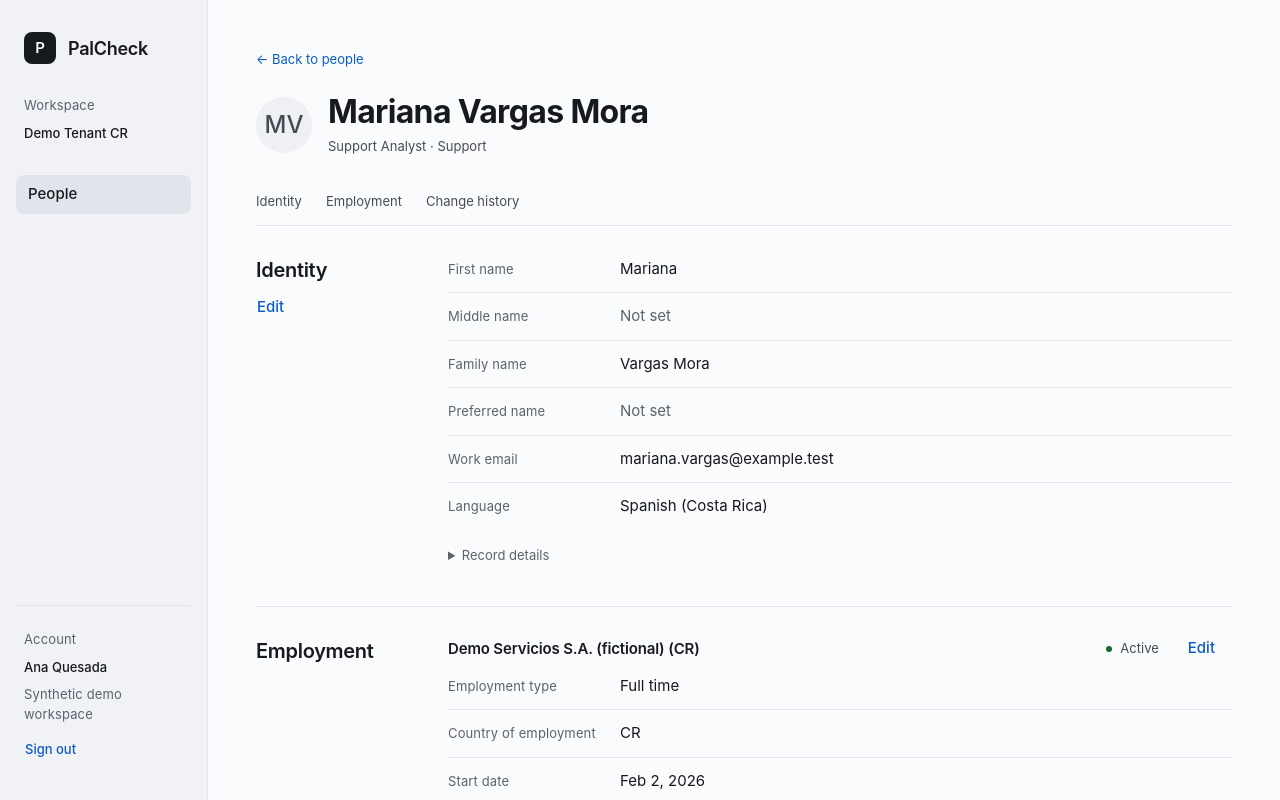
Test case: Person detail › editing identity › sends the revision the person saw, their changes and an idempotency key
The width and height of the screenshot is (1280, 800).
Click the button with aria-label "Edit identity": (271, 308) [240,290,301,326]
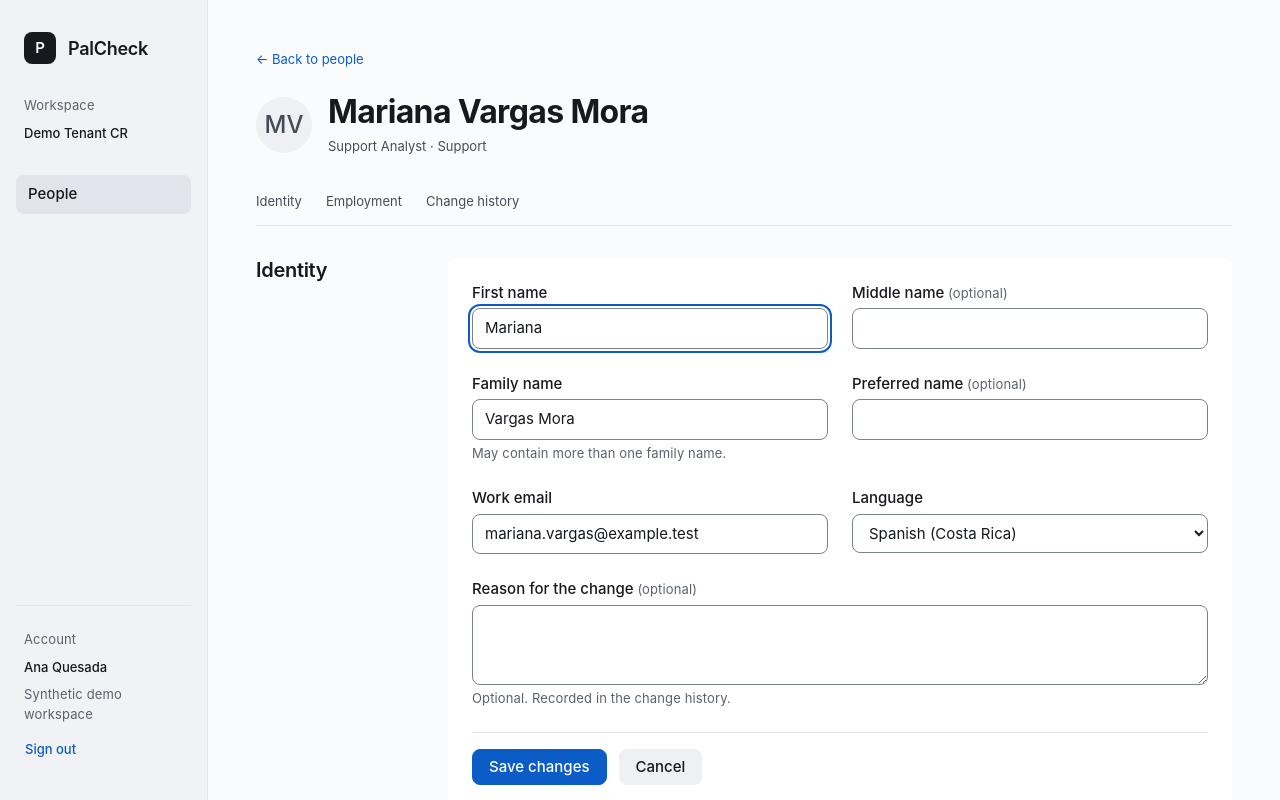
Replace the text in the field labelled "Work email" with "mariana.v@example.test": (650, 534) [472,514,828,554]
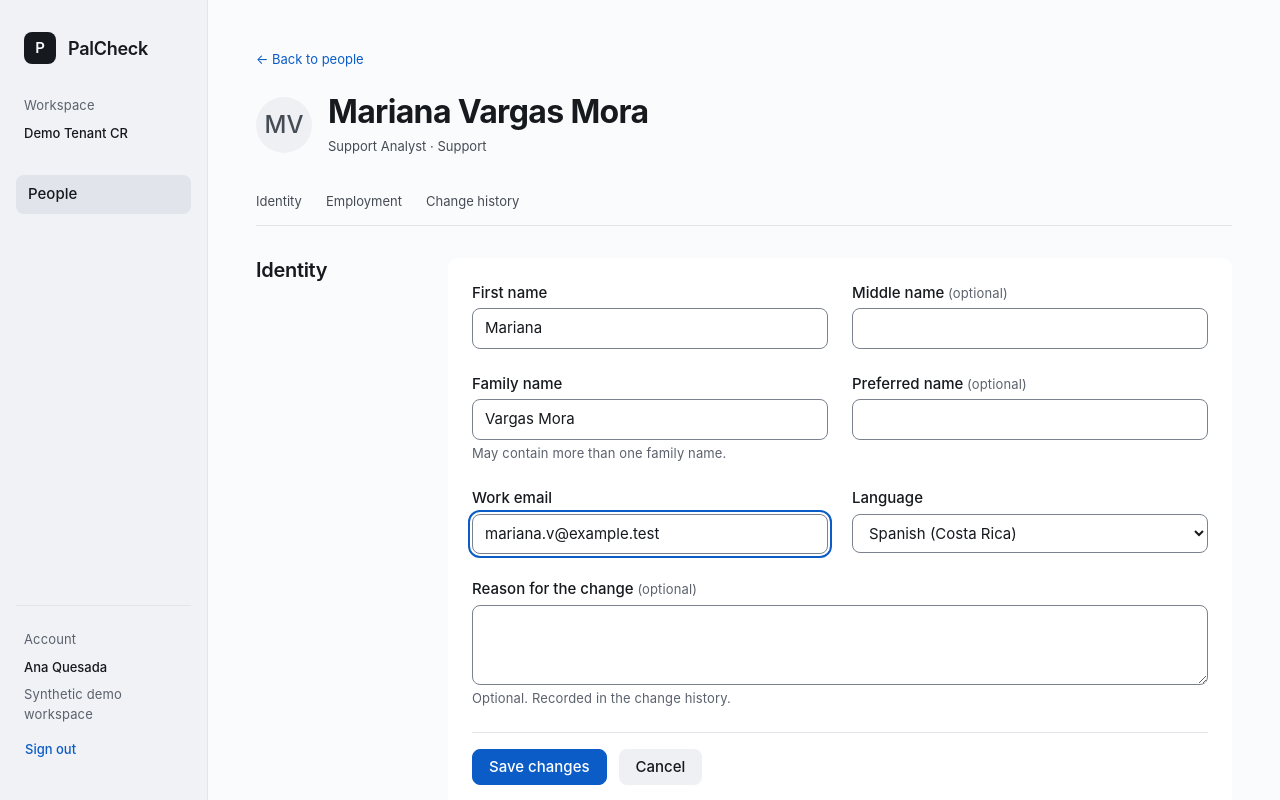
In the text box labelled "Reason for the change (optional)": (840, 645) [472,605,1208,685], type "Corrected the address"
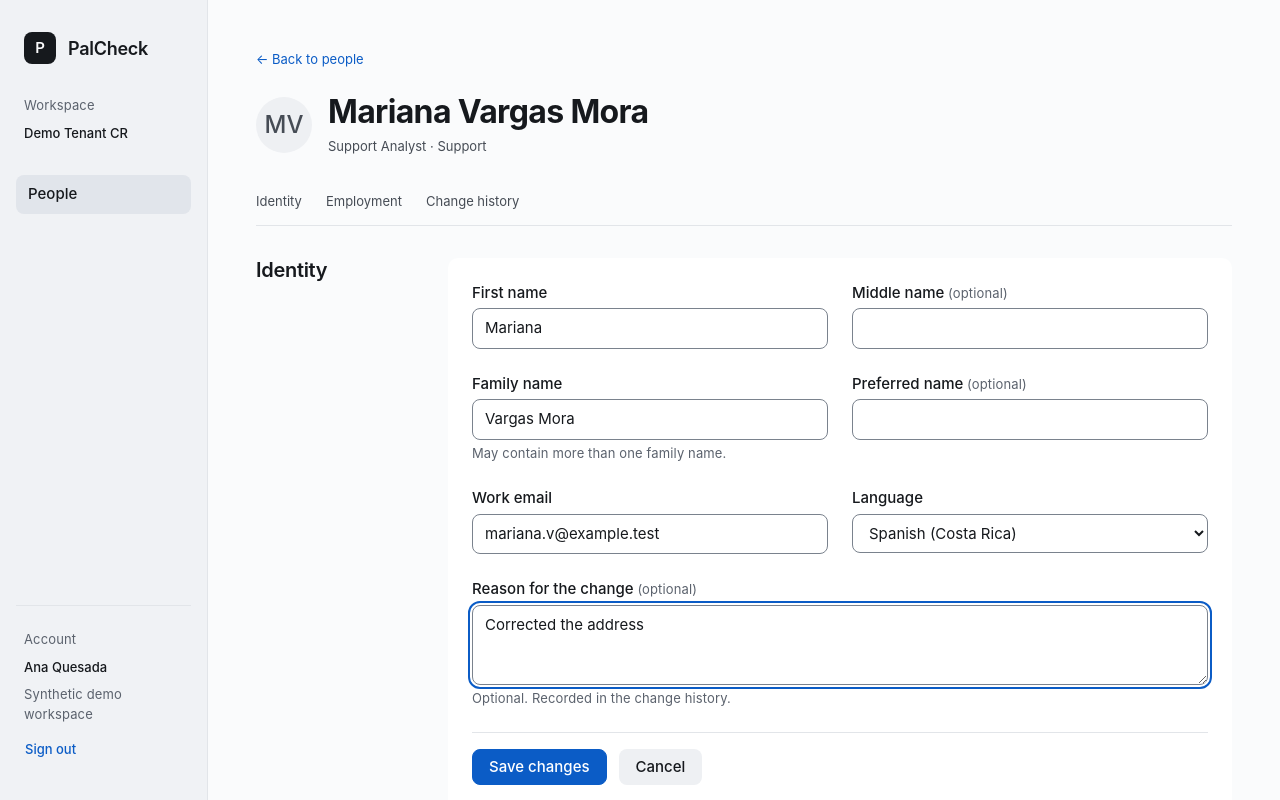
Click the button "Save changes": (539, 767) [472,749,606,785]
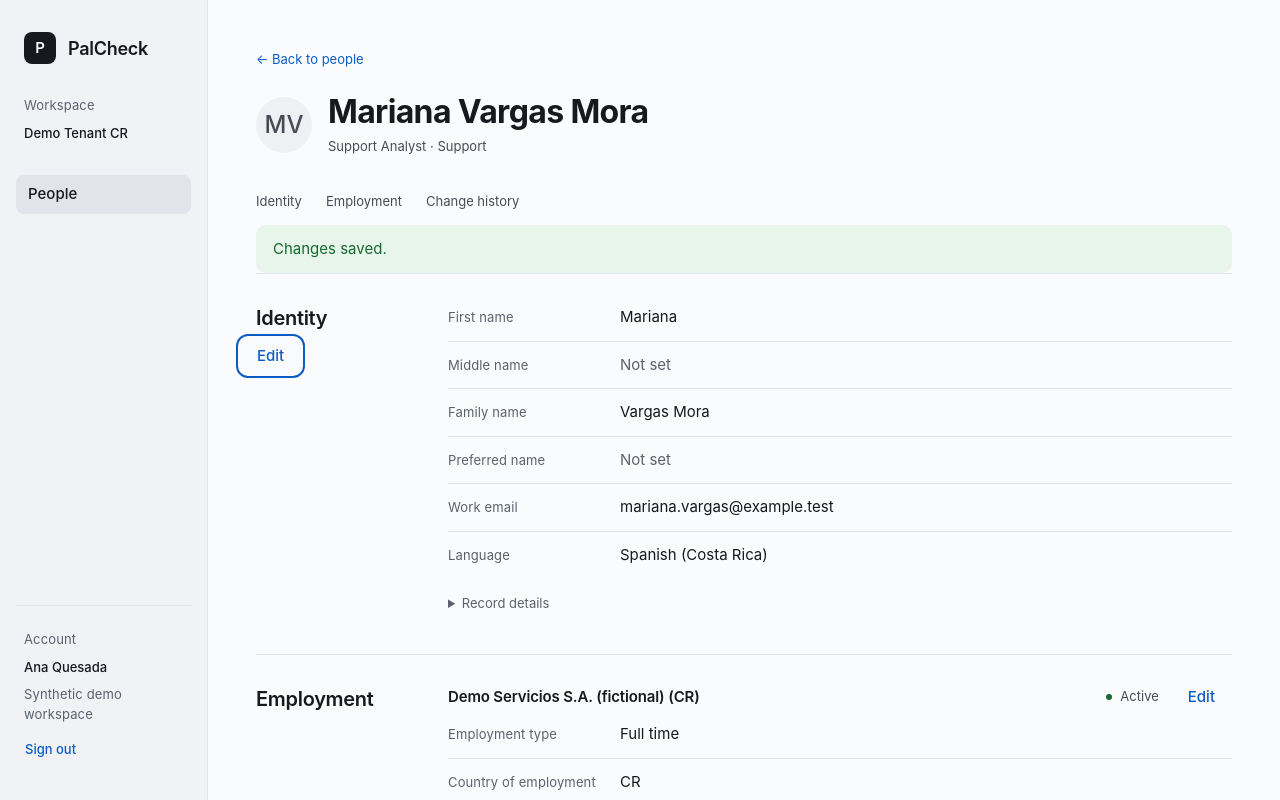
Expected: the text "Changes saved." is shown, [256,225,1232,273]
Expected: the button "Save changes" is gone
